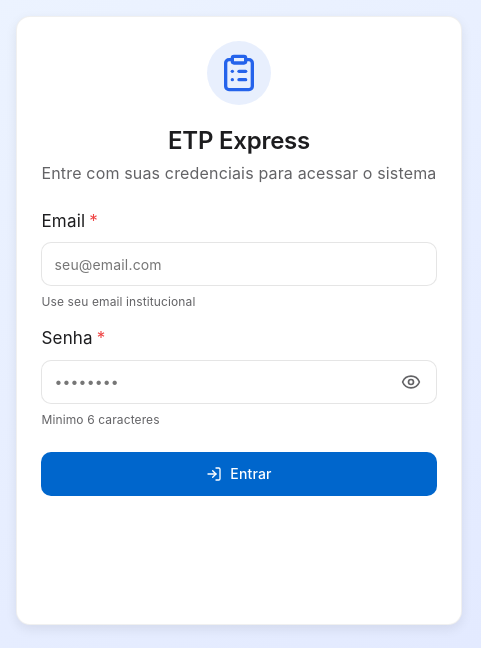
Scenario: Login › Loading State with Spinner › should show loading overlay with spinner when form is submitted
// Fill in valid credentials
Type "test@example.com" into the field labelled "Email *".
click(239, 264); type("test@example.com")  # box top-left (42, 242), bottom-right (436, 286)
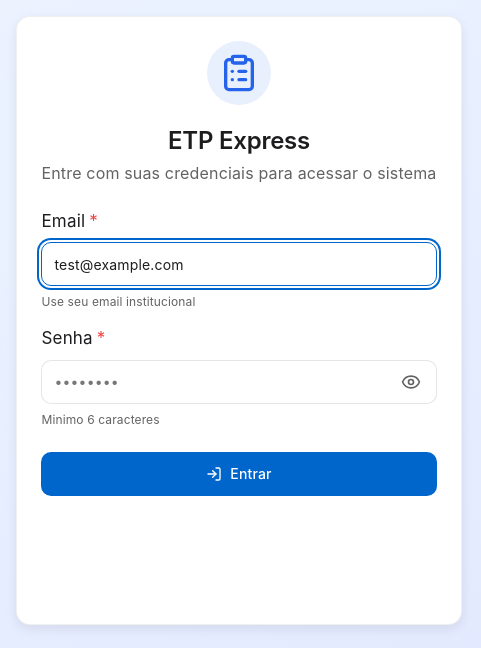
Type "password123" into the password field labelled "Senha *".
click(239, 382); type("password123")  # box top-left (42, 360), bottom-right (436, 404)
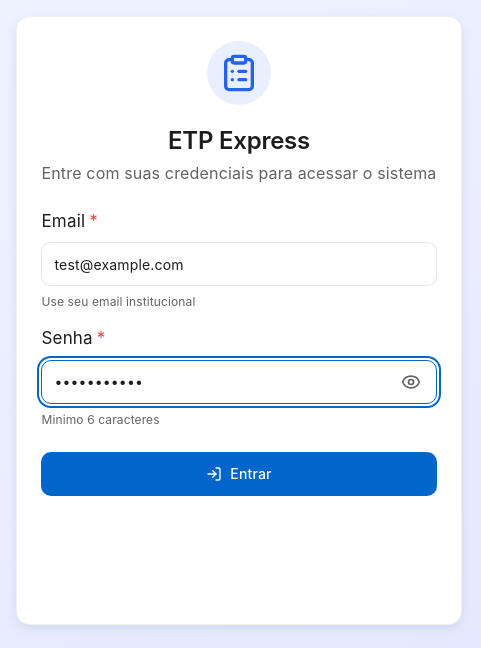
// Submit the form
Click the button "Entrar".
click(239, 474)  # box top-left (42, 452), bottom-right (436, 496)
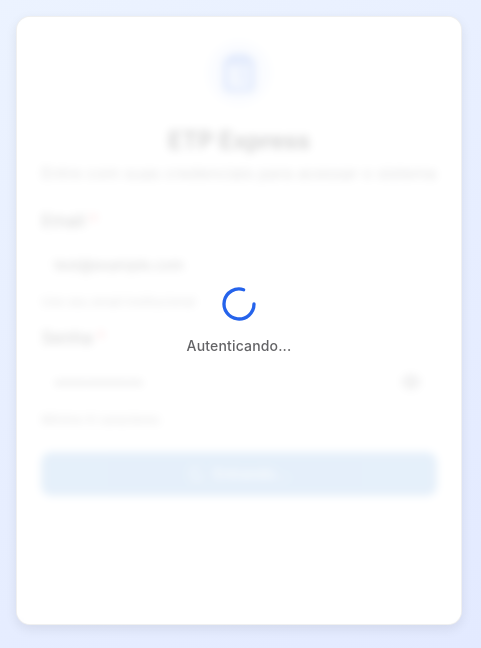
Check: the message "Autenticando..." is shown
Check: the message labelled "Autenticando" is shown
Check: the text "Autenticando..." is shown, box top-left (186, 336), bottom-right (291, 356)
